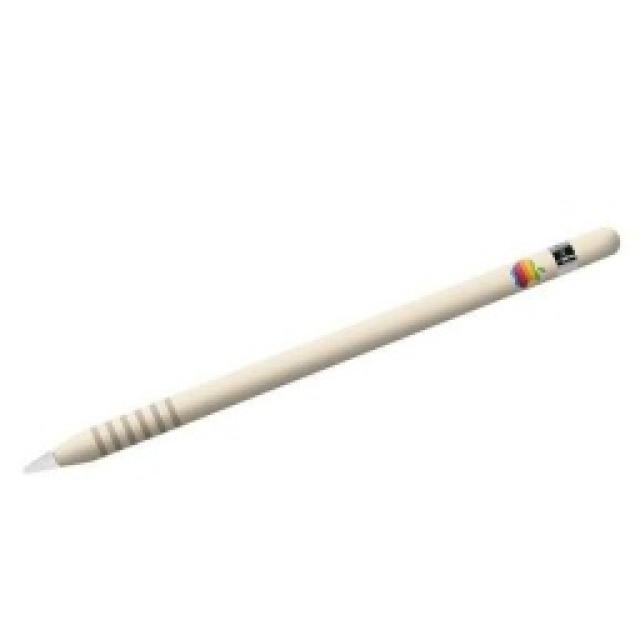pencil: (18, 218, 622, 478)
